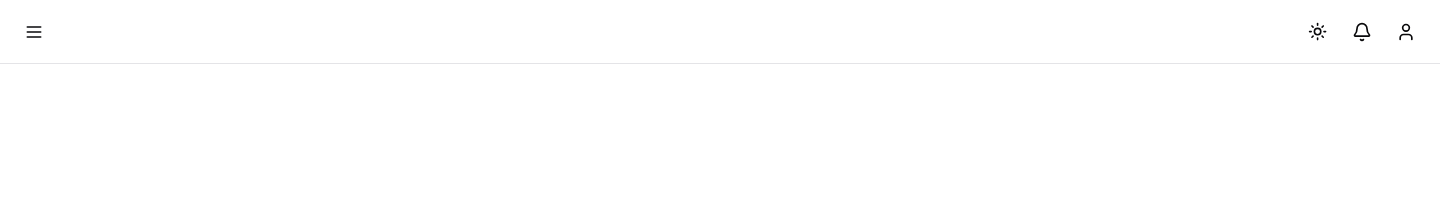
Test: Header › should display nothing for user when not provided
Click the button with test id "user-menu-button": (1406,32) [1388, 14, 1424, 50]
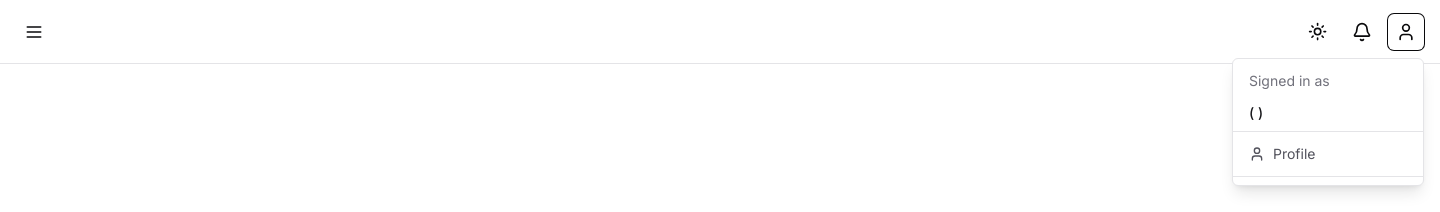
Expected: the element with test id "user-menu-dropdown" is shown, [1232, 58, 1424, 186]
